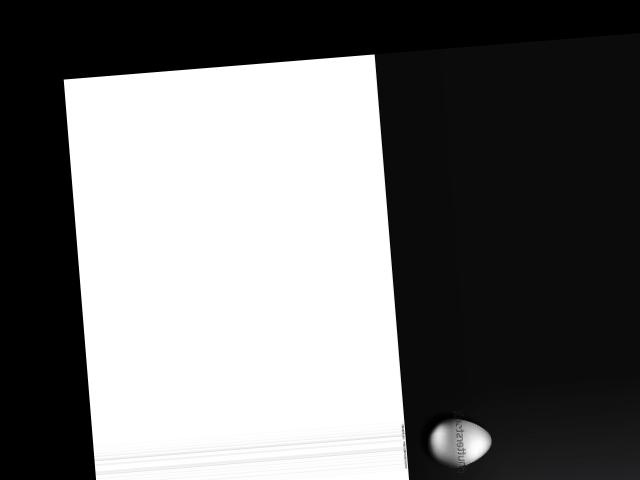egg: (426, 415, 494, 469)
